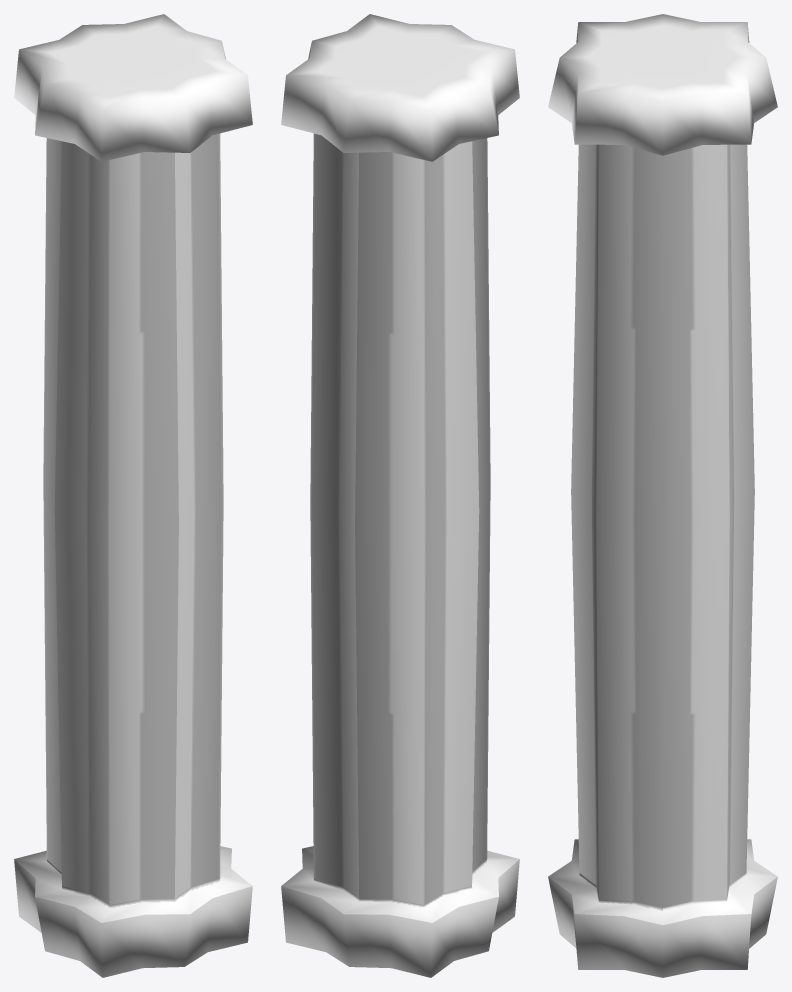
File: pillar.fbx
3 renders of one model, left to right at view 1: azimuth 30°, elevation 25°; view 2: azimuth 150°, elevation 25°; view 3: azimuth 270°, elevation 25°, orthographic.
Parts seen in each view (by area): view 1: Cube; view 2: Cube; view 3: Cube.
Boxes of the visible parts, x1=… form: Cube: x1=14, y1=14, x2=252, y2=977; Cube: x1=281, y1=14, x2=519, y2=977; Cube: x1=548, y1=14, x2=777, y2=977.
Bounding box in the file's own units: 210 × 210 × 884.
